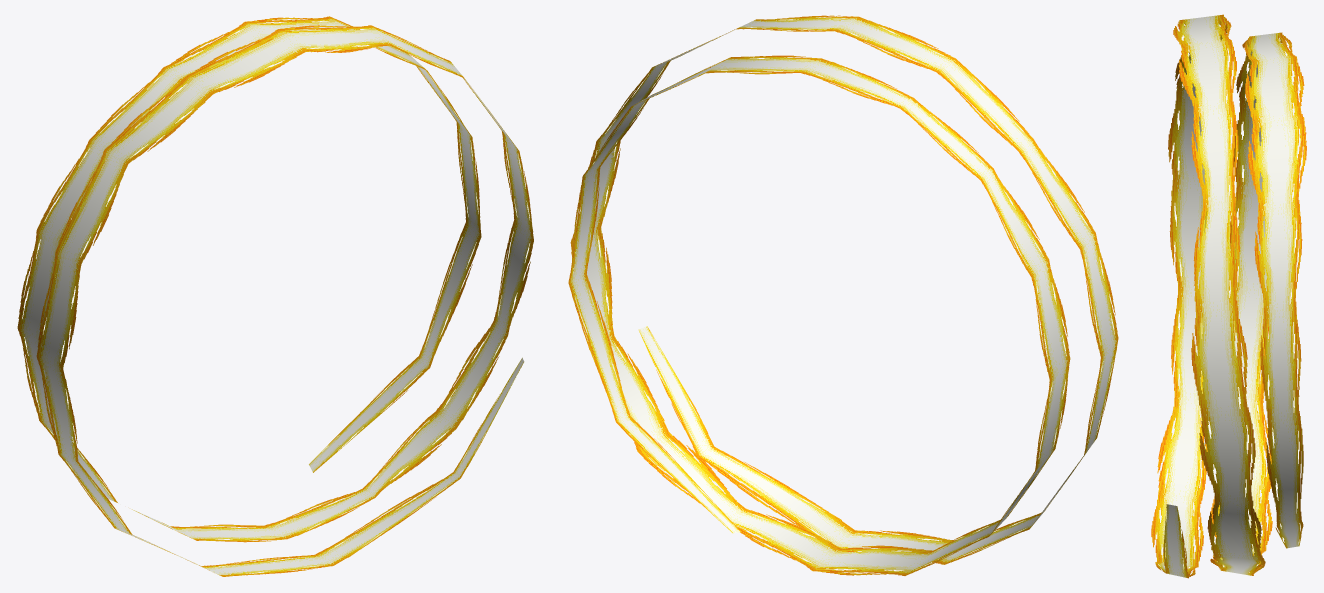
The model's file is TrickEffect.fbx.
3 renders of one model, left to right at view 1: azimuth 30°, elevation 25°; view 2: azimuth 150°, elevation 25°; view 3: azimuth 270°, elevation 25°, orthographic. The views are drawn at different scales.
Parts seen in each view (by area): view 1: sb_trick00; view 2: sb_trick00; view 3: sb_trick00.
Boxes of the visible parts, x1,y1,x2,y2 form: sb_trick00: (17,16,533,576); sb_trick00: (568,15,1118,575); sb_trick00: (1151,14,1306,578).
Size of the model in its own units: 2442 by 2444 by 685.
Materials: 1 (1 with a texture image).
